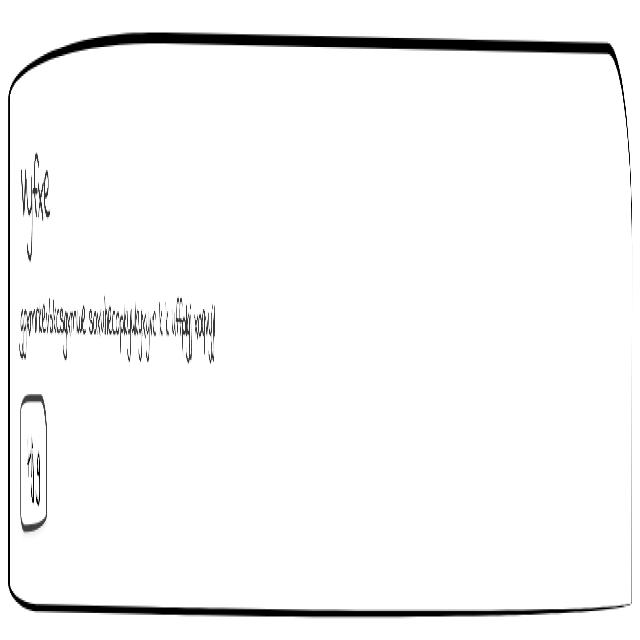Button: (15, 385, 50, 546)
Card: (6, 13, 640, 640)
Heading 6: (18, 149, 56, 258)
Paragraph: (17, 292, 230, 386)
